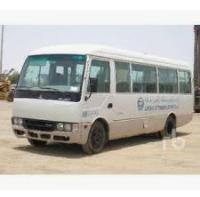bus: (14, 41, 196, 154)
